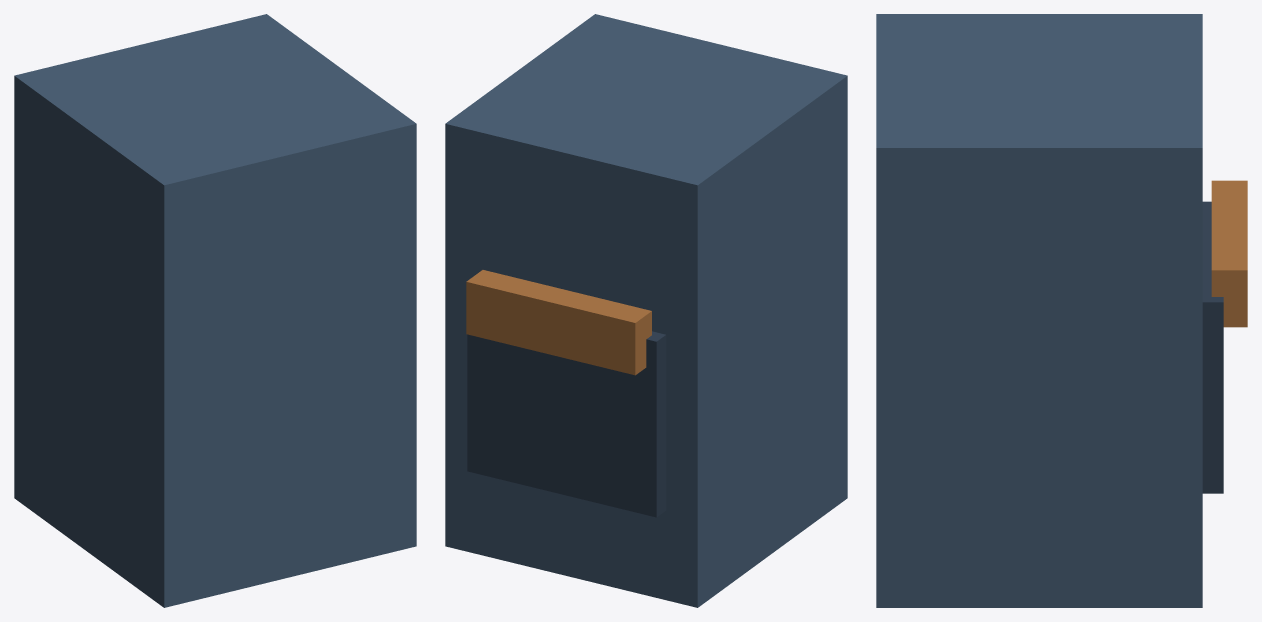
The model's file is thigh.glb.
The picture shows the model from 3 angles, left to right: view 1: azimuth 30°, elevation 25°; view 2: azimuth 150°, elevation 25°; view 3: azimuth 270°, elevation 25°; orthographic projection. The views are drawn at different scales.
Size of the model in its own units: 0.212 by 0.339 by 0.248.
1 material, 1 textured.
